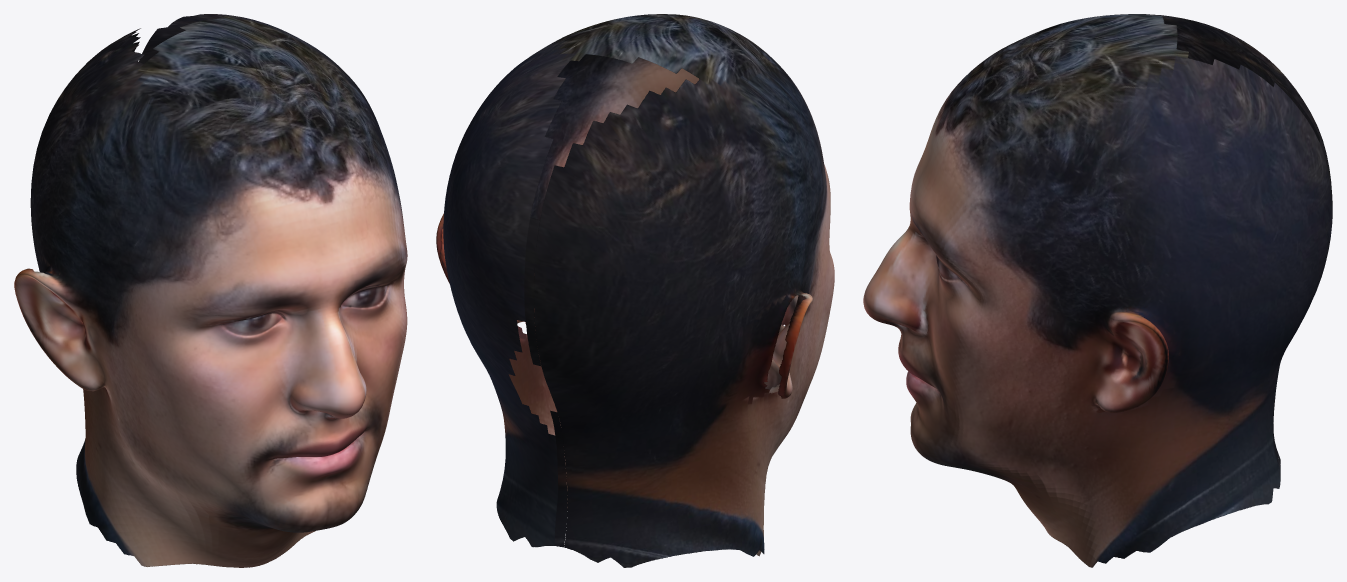
The model's file is CabezotaDavid.fbx.
The picture shows the model from 3 angles, left to right: view 1: azimuth 30°, elevation 25°; view 2: azimuth 150°, elevation 25°; view 3: azimuth 270°, elevation 25°; orthographic projection. The views are drawn at different scales.
Visible parts, largest first — view 1: FaceBuilderHead; view 2: FaceBuilderHead; view 3: FaceBuilderHead.
Boxes of the visible parts, x1,y1,x2,y2 form: FaceBuilderHead: (14,14,407,567); FaceBuilderHead: (436,14,834,567); FaceBuilderHead: (863,14,1332,567).
Bounding box in the file's own units: 185 × 244 × 208.
Materials: 1 (1 with a texture image).
